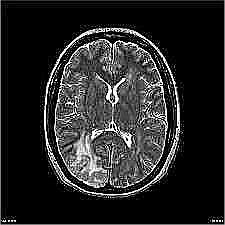Normal_Brain: (28, 4, 206, 225)
